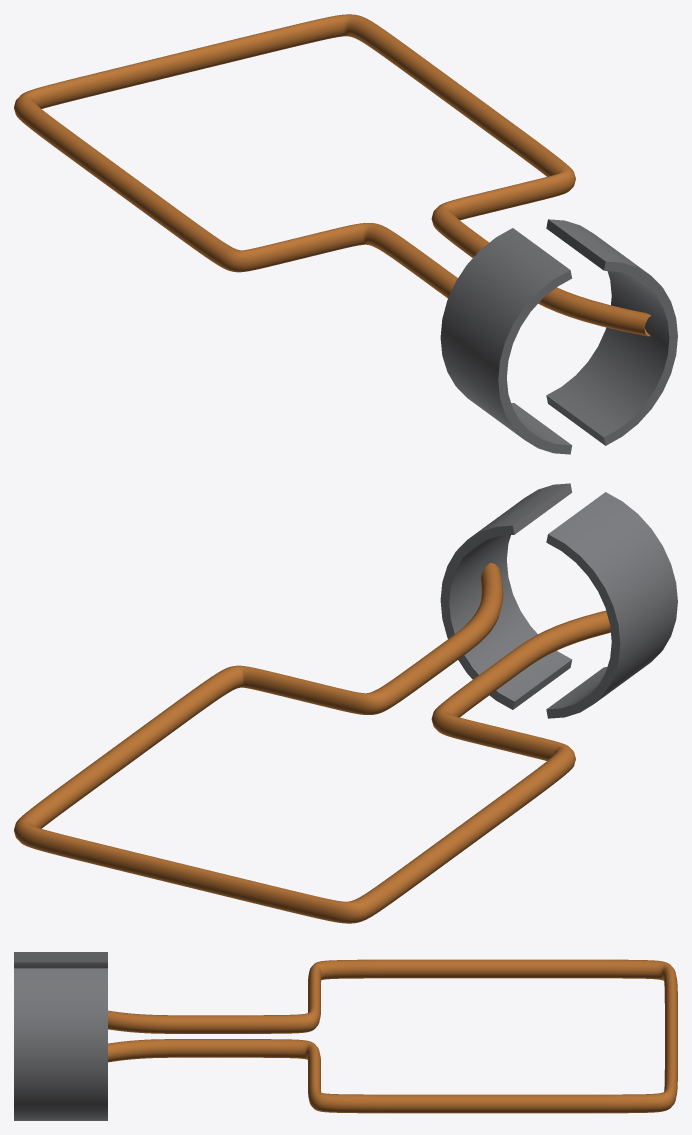
File: DCcoil7.glb
The picture shows the model from 3 angles, top to bottom: view 1: azimuth 30°, elevation 25°; view 2: azimuth 150°, elevation 25°; view 3: azimuth 270°, elevation 25°; orthographic projection. The views are drawn at different scales.
Parts seen in each view (by area): view 1: NURBSパス.006, 円柱.003, 円柱.001; view 2: NURBSパス.006, 円柱.003, 円柱.001; view 3: NURBSパス.006, 円柱.001, 円柱.003.
Part boxes in pixels (x1=…): NURBSパス.006: x1=14, y1=14, x2=650, y2=336; 円柱.003: x1=440, y1=228, x2=572, y2=454; 円柱.001: x1=546, y1=219, x2=677, y2=445; NURBSパス.006: x1=14, y1=562, x2=610, y2=923; 円柱.003: x1=546, y1=492, x2=677, y2=718; 円柱.001: x1=440, y1=483, x2=572, y2=709; NURBSパス.006: x1=108, y1=959, x2=677, y2=1113; 円柱.001: x1=14, y1=968, x2=107, y2=1120; 円柱.003: x1=14, y1=952, x2=107, y2=968.
Size of the model in its own units: 3.6 by 1.77 by 7.07.
